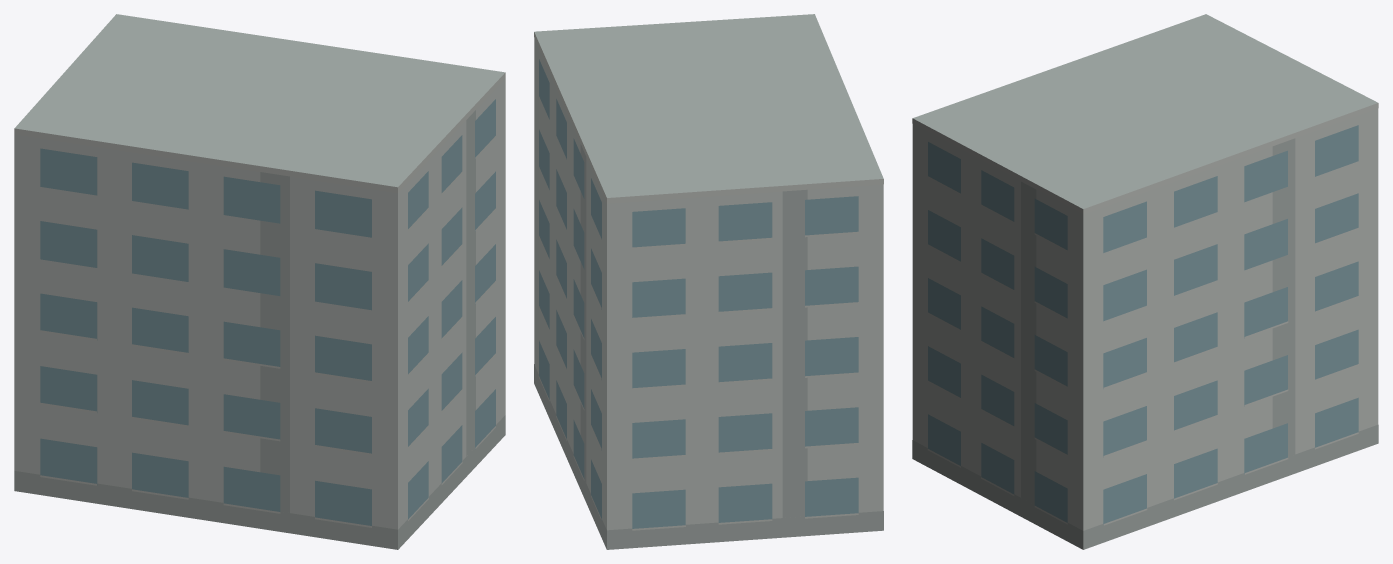
Rendered from survey-upis-32829378.glb.
3 views of the same model, side by side, from view 1: azimuth 30°, elevation 25°; view 2: azimuth 150°, elevation 25°; view 3: azimuth 270°, elevation 25° (orthographic). The views are drawn at different scales.
Visible parts, largest first — view 1: survey-upis-32829378.tmp; view 2: survey-upis-32829378.tmp; view 3: survey-upis-32829378.tmp.
Boxes of the visible parts, box(x1,y1,x2,y2) form: survey-upis-32829378.tmp: box(14, 14, 505, 549); survey-upis-32829378.tmp: box(534, 14, 883, 549); survey-upis-32829378.tmp: box(912, 14, 1378, 549).
Bounding box in the file's own units: 18.74 × 15.25 × 18.91.
